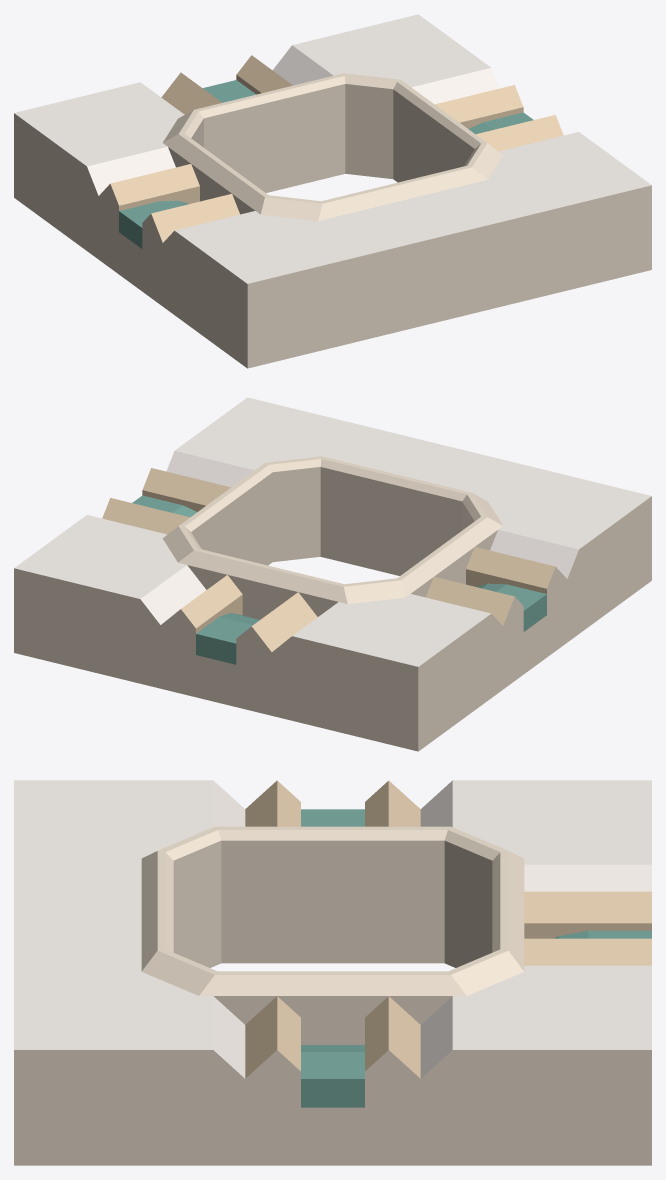
Rendered from Puzzle_Floor_Conduit_Control_Housing_TJoint.glb.
3 renders of one model, top to bottom at view 1: azimuth 30°, elevation 25°; view 2: azimuth 150°, elevation 25°; view 3: azimuth 270°, elevation 25°, orthographic. The views are drawn at different scales.
Parts seen in each view (by area): view 1: Puzzle_Floor_Conduit_Control_Housing_TJoint; view 2: Puzzle_Floor_Conduit_Control_Housing_TJoint; view 3: Puzzle_Floor_Conduit_Control_Housing_TJoint.
Part boxes in pixels (x1,y1,x2,y2): Puzzle_Floor_Conduit_Control_Housing_TJoint: (14,14,651,368); Puzzle_Floor_Conduit_Control_Housing_TJoint: (14,397,651,751); Puzzle_Floor_Conduit_Control_Housing_TJoint: (14,780,651,1165).
Size of the model in its own units: 1 by 0.225 by 1.
